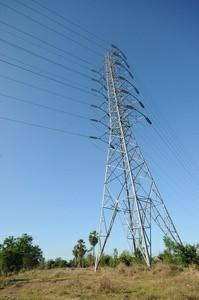power_tower: (94, 40, 190, 269)
